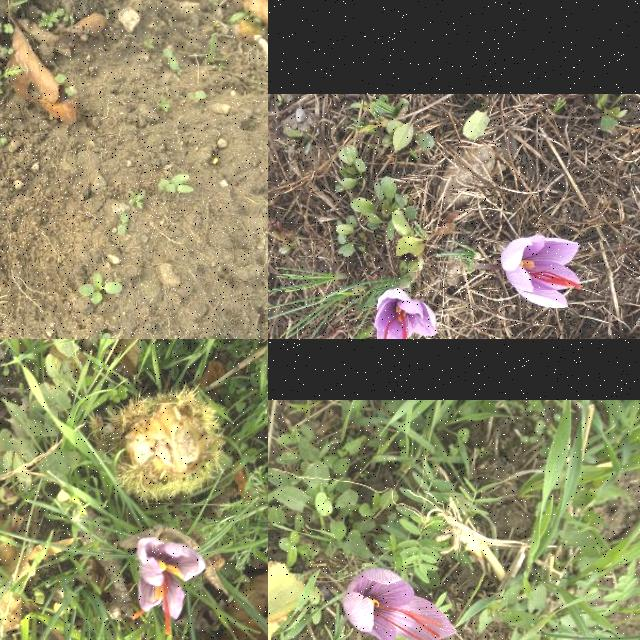flower: (343, 567, 457, 640), (132, 539, 205, 637), (500, 235, 582, 309), (373, 287, 439, 339)
